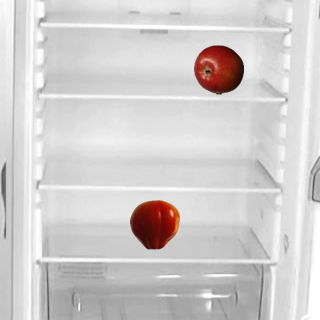Apple Braeburn: (193, 44, 243, 94)
Tomato 1: (129, 199, 179, 249)
